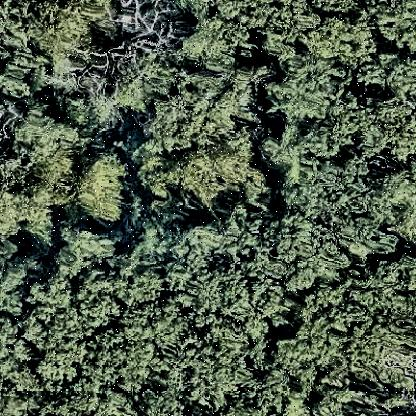tree-top: (280, 251, 415, 386), (143, 68, 272, 144), (5, 112, 80, 237), (174, 220, 257, 319), (143, 140, 265, 200), (1, 2, 111, 64), (271, 55, 355, 126), (305, 12, 387, 58), (78, 150, 128, 225), (189, 15, 258, 69), (356, 45, 416, 93), (57, 226, 117, 274), (116, 257, 166, 305), (367, 2, 416, 50), (2, 252, 36, 320), (32, 277, 76, 325), (133, 381, 185, 416)
